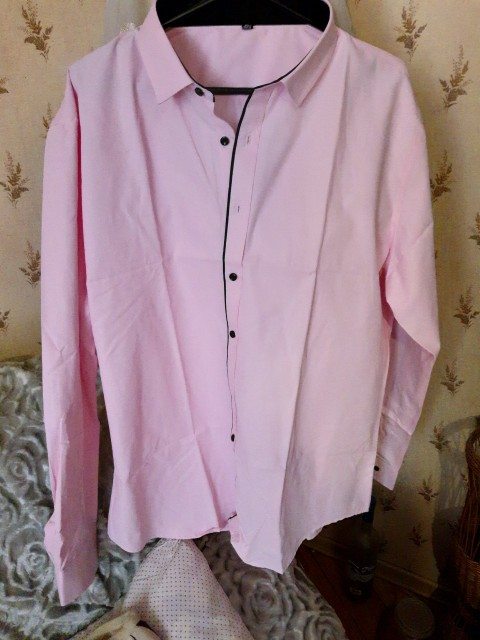shirts: (38, 9, 442, 598)
